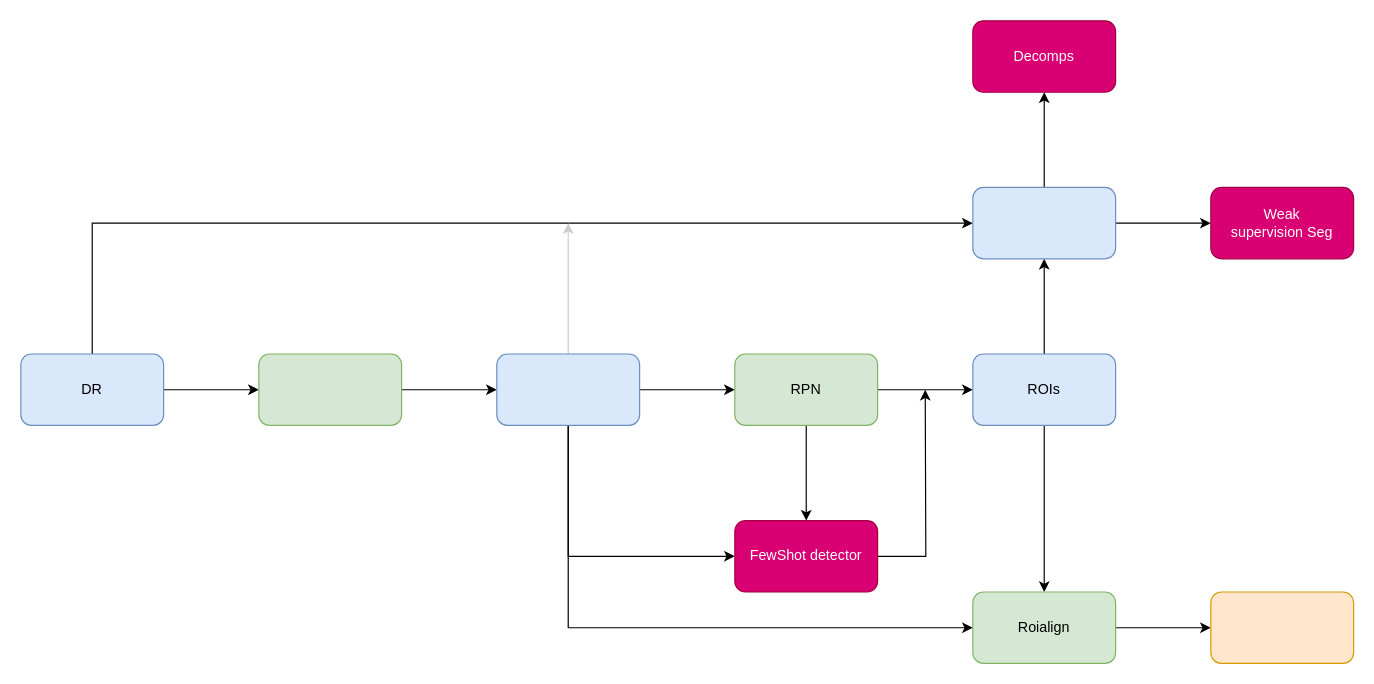
This 1374x684 diagram has some shape labels left out. Here are the shapes that lost their labels. From the top down, the box of each, then its label:
(972, 186, 1116, 259): imgCrop
(258, 353, 402, 425): Backbone
(496, 353, 640, 425): FPN
(1210, 591, 1354, 663): Cls_bbox
